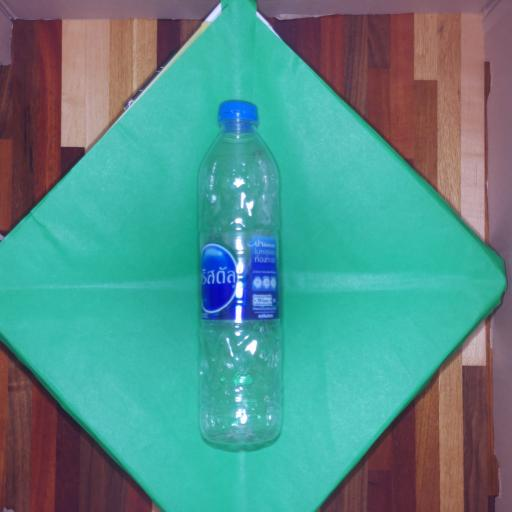bottle: (185, 90, 292, 455)
